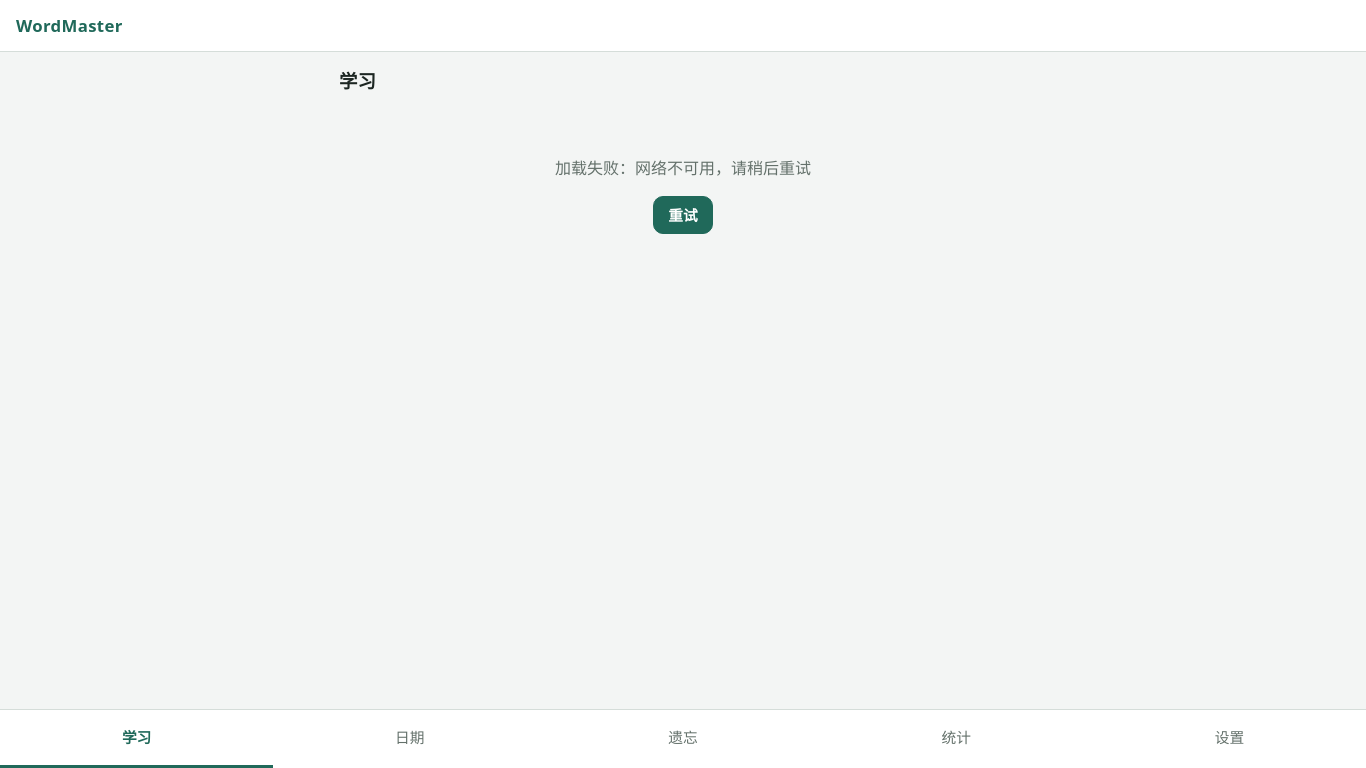
it: 底部导航 › 点击“日期”切换到对应页面
Click the link "日期" at (410, 738), box [395, 728, 425, 748]
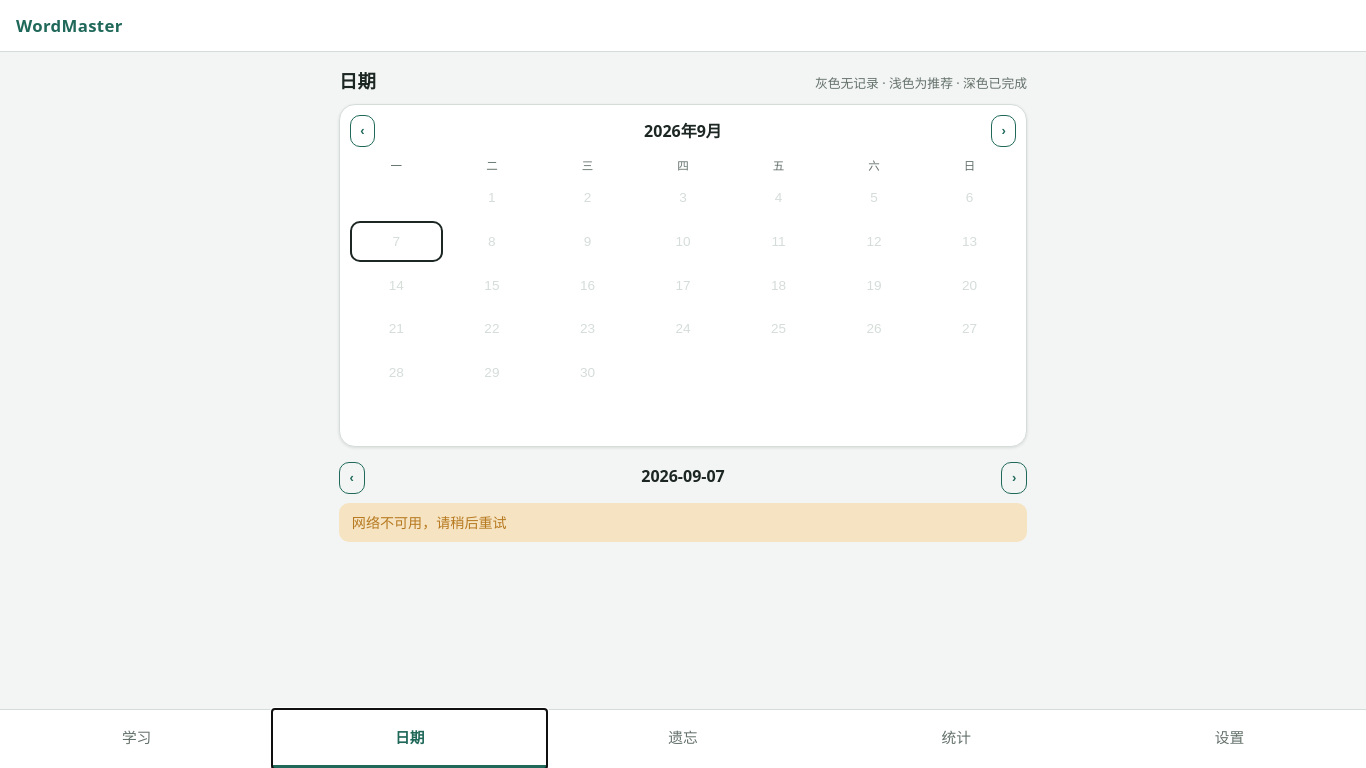
Expected: the heading "日期" is shown, [339, 67, 376, 95]
